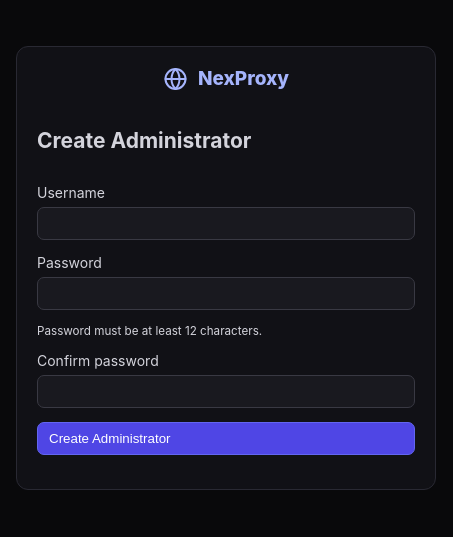
Test: Phase 2.5 frontend authentication › validates setup minimum length and password confirmation
This screenshot has width=453, height=537.
Type "admin" into the field labelled "Username". click: (226, 224)
box: [37, 207, 415, 240]
Type "short" into the password field labelled "Password". click: (226, 294)
box: [37, 277, 415, 310]
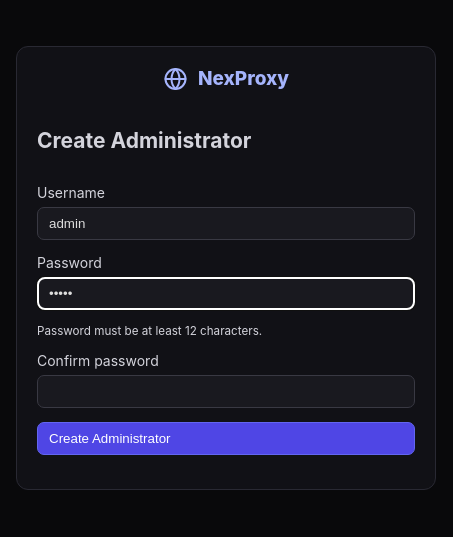
Type "short" into the password field labelled "Confirm password". click: (226, 392)
box: [37, 375, 415, 408]
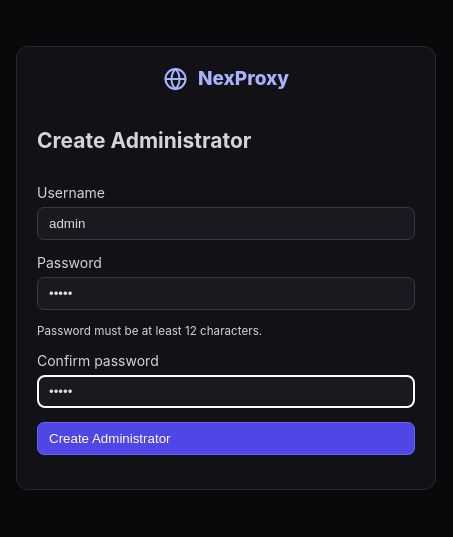
Click the button "Create Administrator". click: (110, 439)
box: [37, 422, 415, 455]
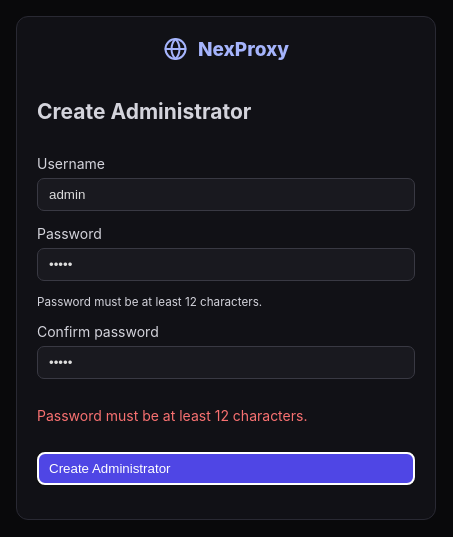
Expected: the message shows "at least 12 characters", [37, 407, 307, 424]
Type "long-password-1" into the password field labelled "Password". click: (226, 264)
box: [37, 248, 415, 281]
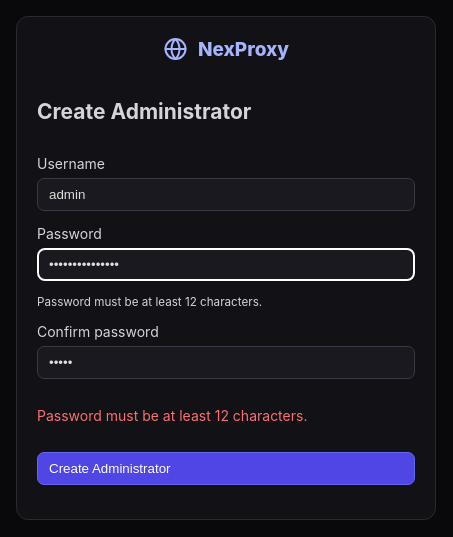
Type "long-password-2" into the password field labelled "Confirm password". click: (226, 362)
box: [37, 346, 415, 379]
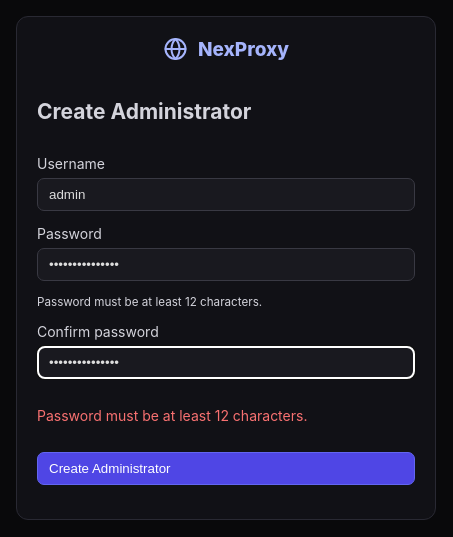
Click the button "Create Administrator". click: (110, 468)
box: [37, 452, 415, 485]
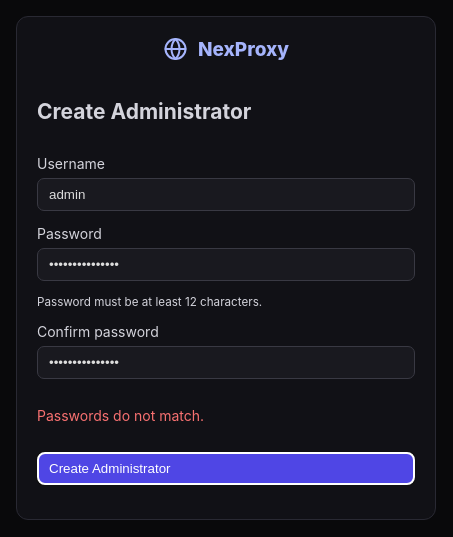
Expected: the message shows "Passwords do not match", [37, 407, 204, 424]
